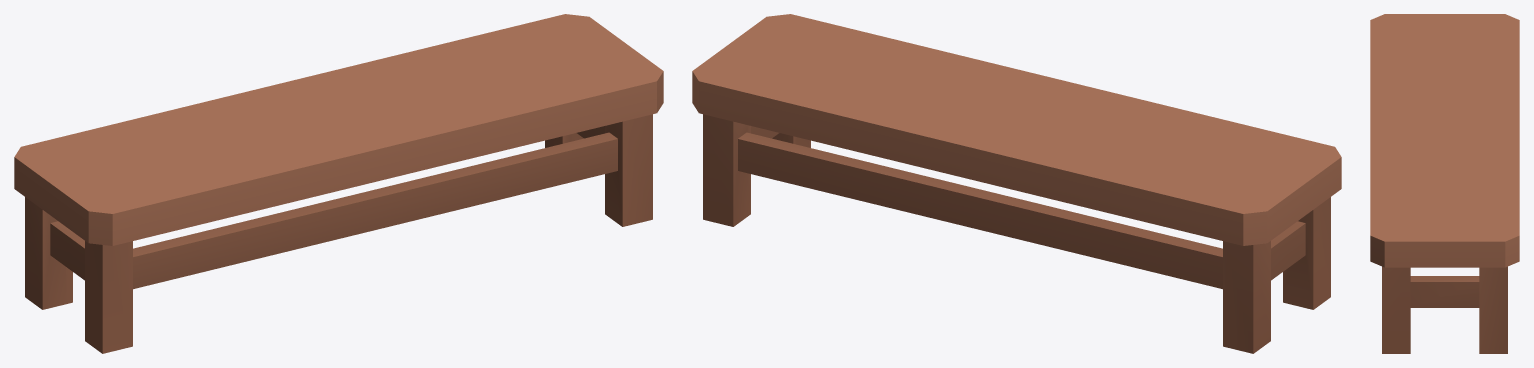
File: fw_bench_oak.glb
The picture shows the model from 3 angles, left to right: view 1: azimuth 30°, elevation 25°; view 2: azimuth 150°, elevation 25°; view 3: azimuth 270°, elevation 25°; orthographic projection. The views are drawn at different scales.
Parts seen in each view (by area): view 1: body; view 2: body; view 3: body.
Boxes of the visible parts, left/top/right/bottom form: body: left=14, top=14, right=663, bottom=353; body: left=692, top=14, right=1341, bottom=353; body: left=1370, top=14, right=1519, bottom=353.
Bounding box in the file's own units: 1.88 × 0.451 × 0.52.
